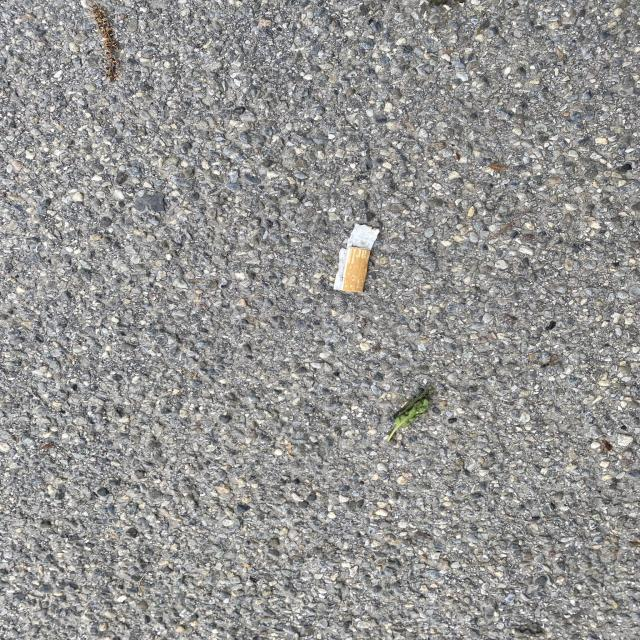other waste: (332, 222, 380, 293)
